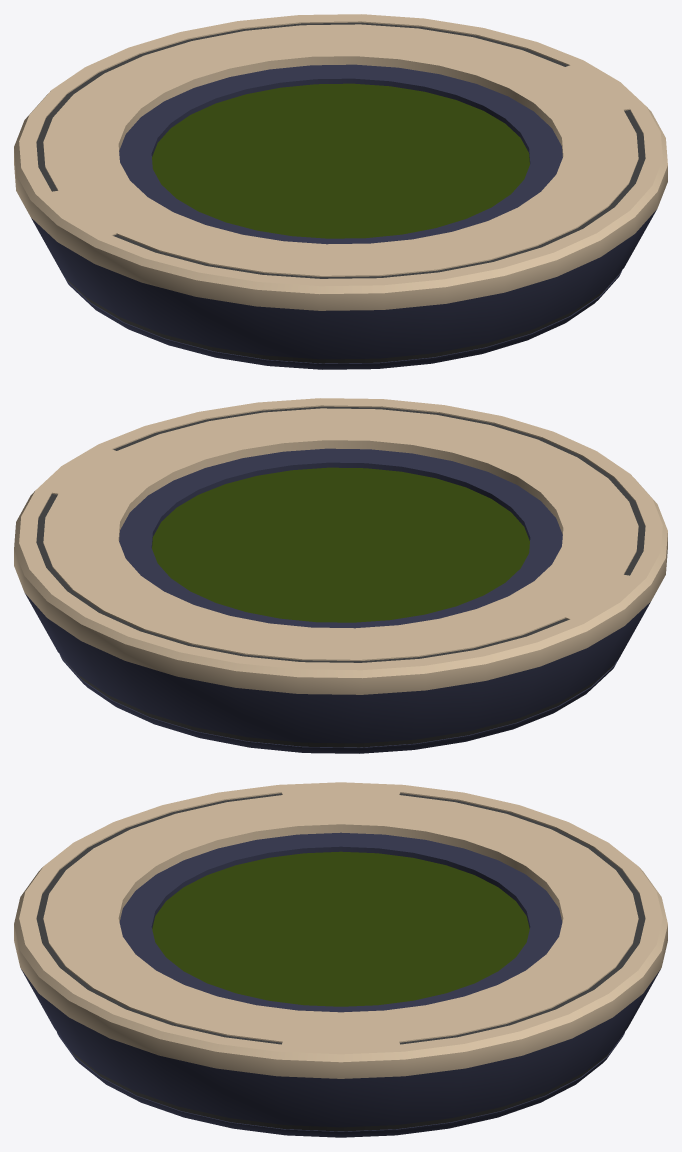
File: M_Pot_01.fbx
3 views of the same model, one above another, from view 1: azimuth 30°, elevation 25°; view 2: azimuth 150°, elevation 25°; view 3: azimuth 270°, elevation 25° (orthographic).
Parts seen in each view (by area): view 1: M_Pot_01; view 2: M_Pot_01; view 3: M_Pot_01.
Boxes of the visible parts, bbox=[...] form: M_Pot_01: bbox=[14, 14, 667, 369]; M_Pot_01: bbox=[14, 398, 667, 753]; M_Pot_01: bbox=[14, 782, 667, 1137].
Bounding box in the file's own units: 1.5 × 0.3 × 1.5.
